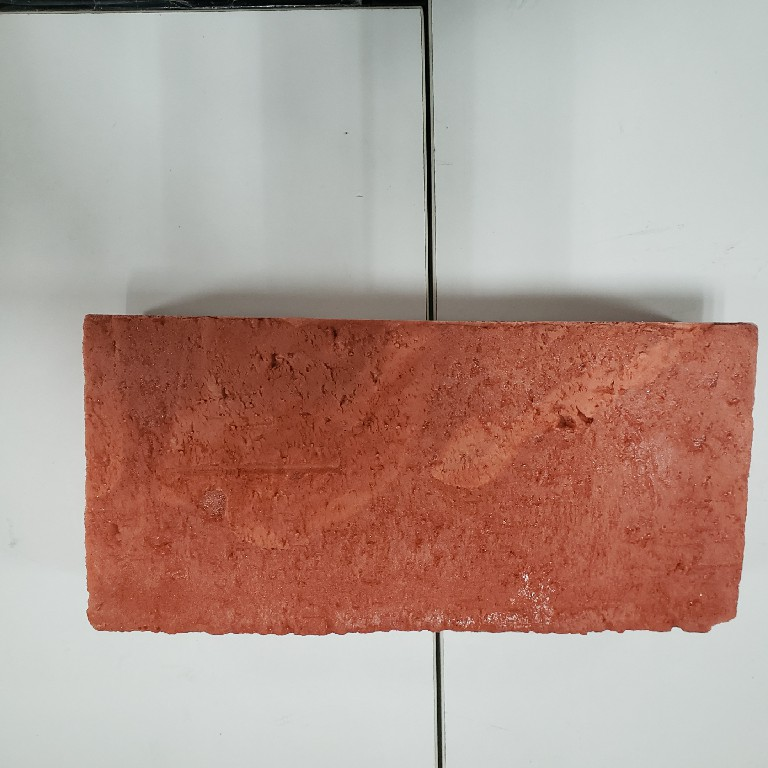brick: (68, 300, 760, 657)
